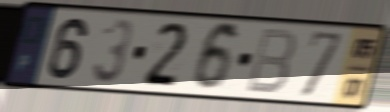2: (138, 21, 191, 90)
3: (92, 16, 133, 87)
6: (189, 19, 243, 97), (46, 15, 89, 82)
7: (302, 28, 346, 100)
B: (243, 26, 298, 97)
